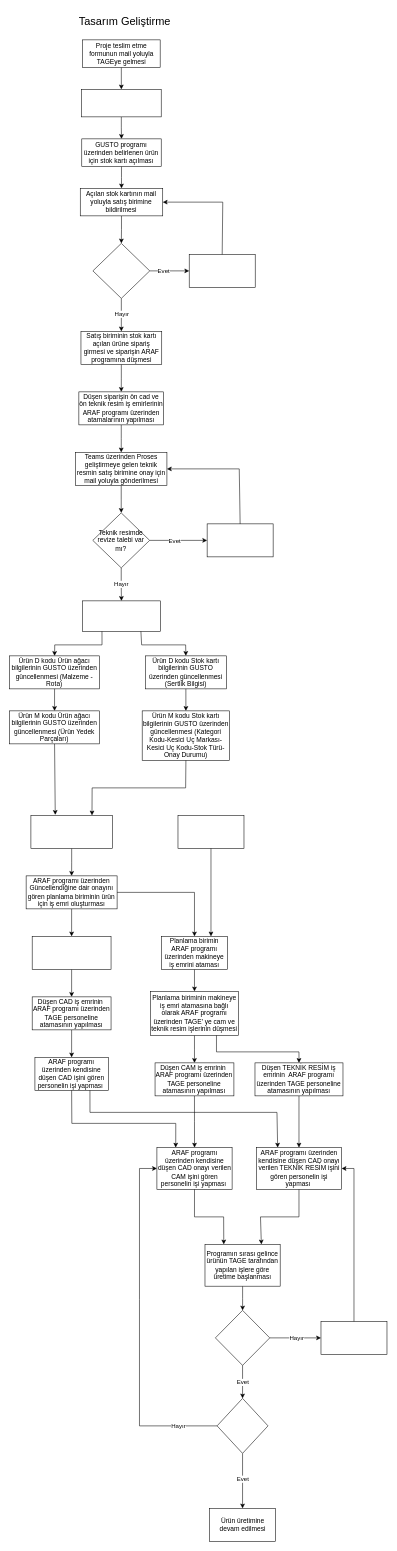
This 397x1551 diagram has some shape labels left out. Each missing label, with the box of its shape:
ARAF programı üzerinden verilen teknik resmin revize edilmesi: (320, 1321, 387, 1354)
Proje formundaki ürüne göre AKKO kodunun belirlenmesi: (81, 89, 161, 117)
Satış biriminden teknik resmin onayının mail yoluyla gelmesi: (82, 600, 160, 631)
Standart ürün üretim talebi: (177, 815, 244, 848)
Stok adının güncellenmesi: (189, 254, 255, 287)
Stok kartında revize var mı?: (92, 243, 150, 298)
TAGE tarafından verilen cam doğru mu?: (217, 1398, 268, 1453)
TAGE tarafından verilen teknik resim doğru mu?: (215, 1310, 270, 1365)
Tasarıma ARAF programı üzerinden CAD iş emrinin düşmesi: (32, 936, 111, 969)
Ön cad ve Ön teknik resim revize edilmesi: (207, 523, 273, 557)
Ürün ağacının ARAF üzerinden güncellendiğine dair onaylanması: (30, 815, 112, 848)
